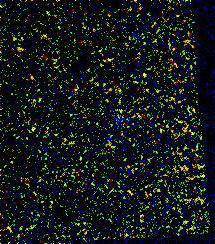star: (30, 21, 60, 51)
